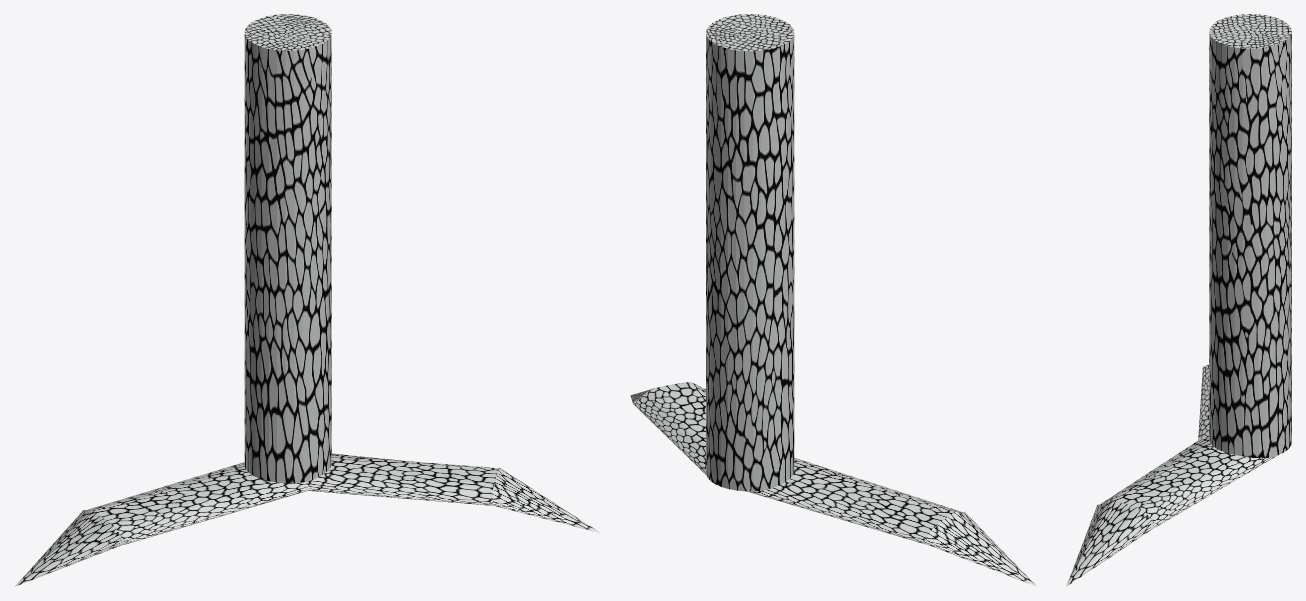
Rendered from Chameleon_leg.obj.
The picture shows the model from 3 angles, left to right: view 1: azimuth 30°, elevation 25°; view 2: azimuth 150°, elevation 25°; view 3: azimuth 270°, elevation 25°; orthographic projection. The views are drawn at different scales.
Parts seen in each view (by area): view 1: Cylinder, Cone, Cone.001; view 2: Cylinder, Cone, Cone.001; view 3: Cylinder, Cone.001, Cone.
Boxes of the visible parts, x1,y1,x2,y2 form: Cylinder: (244,14,331,483); Cone: (15,462,310,586); Cone.001: (305,453,600,532); Cylinder: (706,14,794,491); Cone: (747,457,1036,586); Cone.001: (630,382,706,474); Cylinder: (1209,14,1291,458); Cone.001: (1066,438,1277,586); Cone: (1198,364,1209,440).
Bounding box in the file's own units: 3.21 × 2.99 × 1.34.
1 material, 1 textured.
